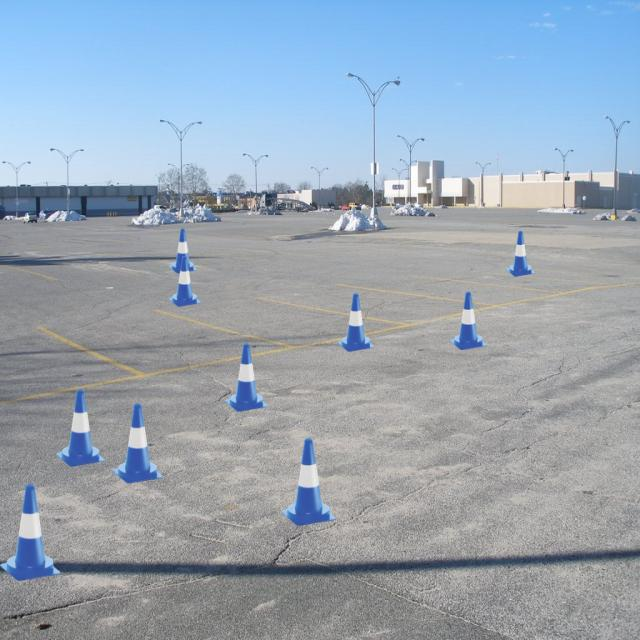blue_cone: (0, 484, 61, 581), (282, 438, 336, 526), (113, 404, 163, 484), (56, 389, 105, 467), (225, 343, 268, 412), (450, 292, 487, 350), (338, 293, 374, 352), (168, 256, 200, 306), (506, 231, 535, 277), (169, 228, 197, 274)
